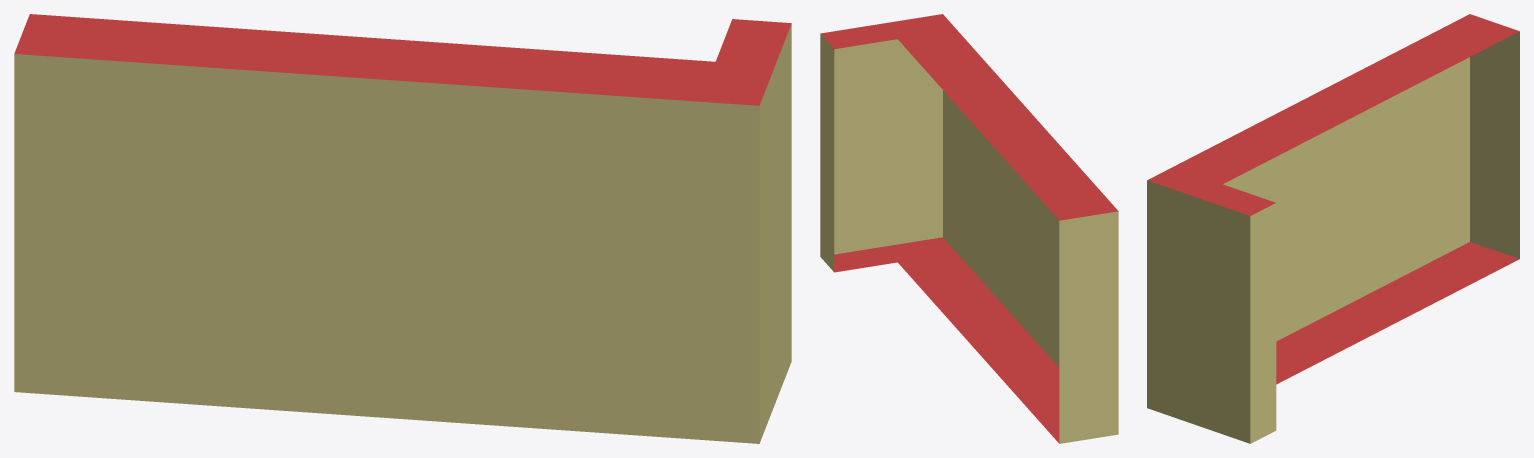
3 renders of one model, left to right at view 1: azimuth 30°, elevation 25°; view 2: azimuth 150°, elevation 25°; view 3: azimuth 270°, elevation 25°, orthographic. The views are drawn at different scales.
Parts seen in each view (by area): view 1: group_4, group_3; view 2: group_4, group_3, group_5; view 3: group_4, group_3, group_5.
Boxes of the visible parts, x1,y1,x2,y2 form: group_4: (14,24,791,443); group_3: (14,14,791,105); group_4: (820,34,1118,443); group_3: (820,14,1118,220); group_5: (834,237,1059,443); group_4: (1147,31,1519,443); group_3: (1147,14,1519,215); group_5: (1276,242,1519,384).
Bounding box in the file's own units: 15.08 × 11.75 × 7.93.
